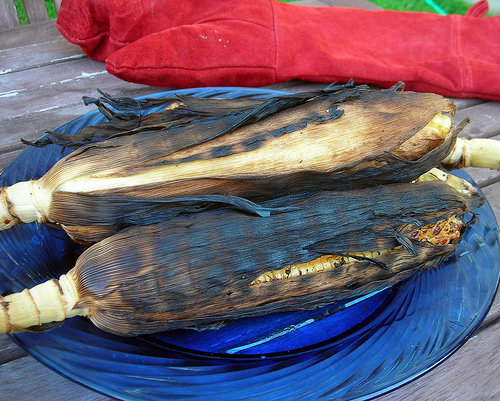corn: (2, 181, 485, 339), (42, 90, 462, 242)
